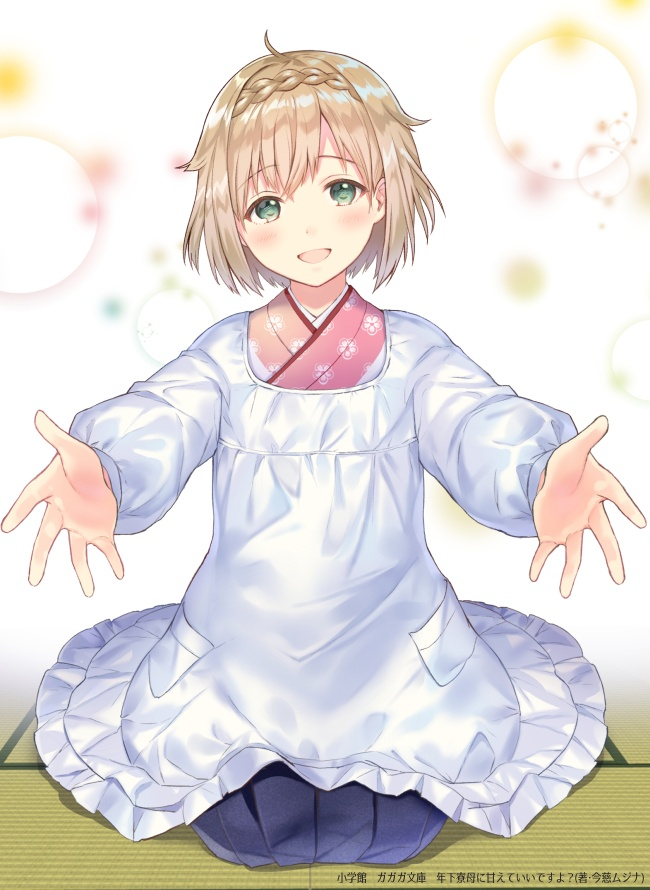纸片人正脸: (183, 29, 432, 296)
